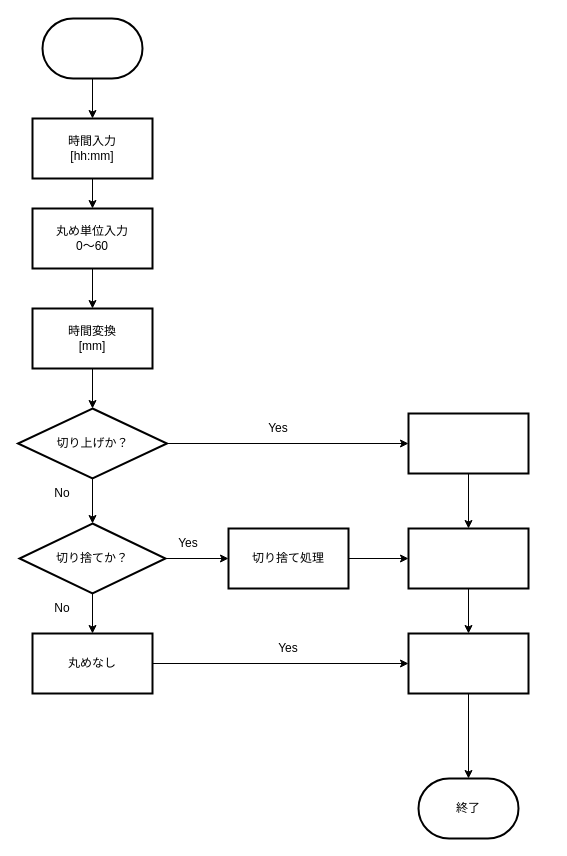
The diagram is 567 pixels wide and 856 high, and some of its shapes have lost their labels. The centre of each missing label's shape, as x and y in pixels:
切り上げ処理: pixel 468 443
時間出力: pixel 468 663
時間変換 [hh:mm]: pixel 468 558
開始: pixel 92 48
